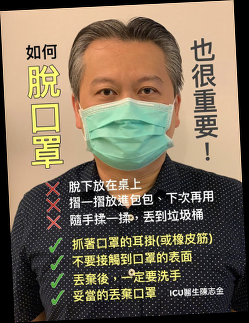with_mask: (80, 72, 174, 172)
